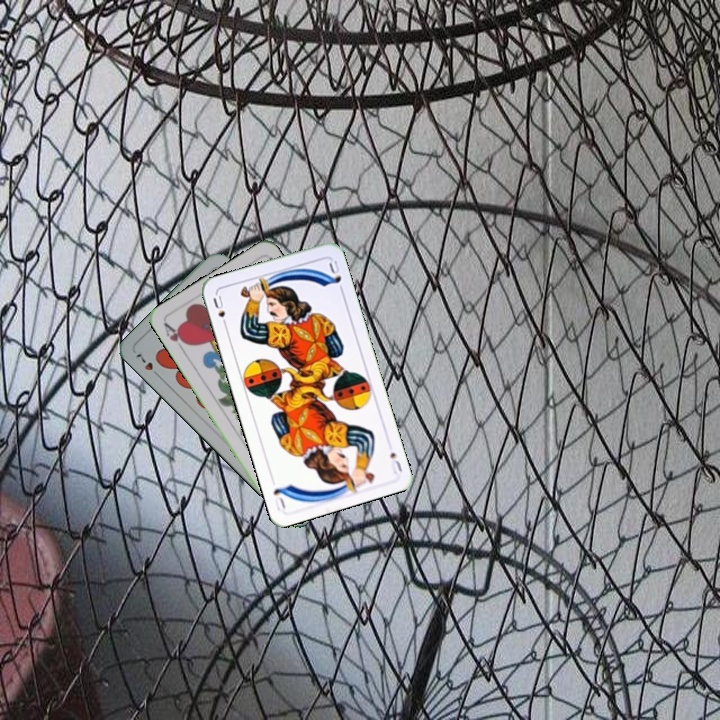H7: (132, 350, 163, 381)
HA: (160, 319, 191, 355)
SU: (209, 291, 230, 331), (386, 448, 405, 474)
